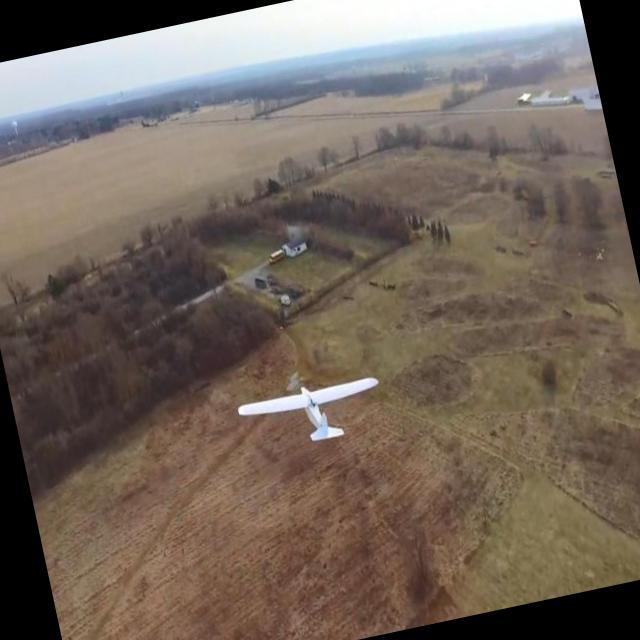UAV: (190, 346, 397, 480)
